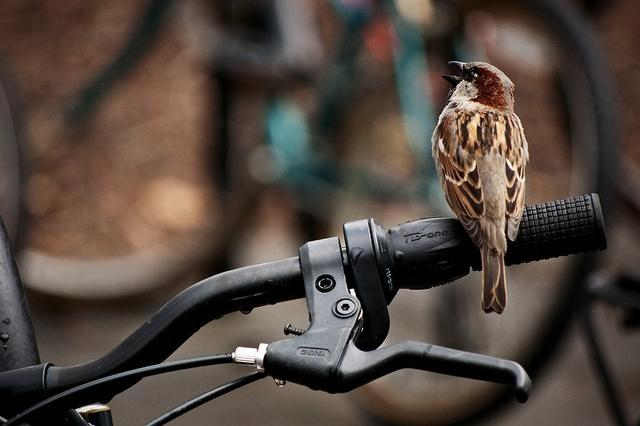bicycle: (2, 192, 608, 426)
